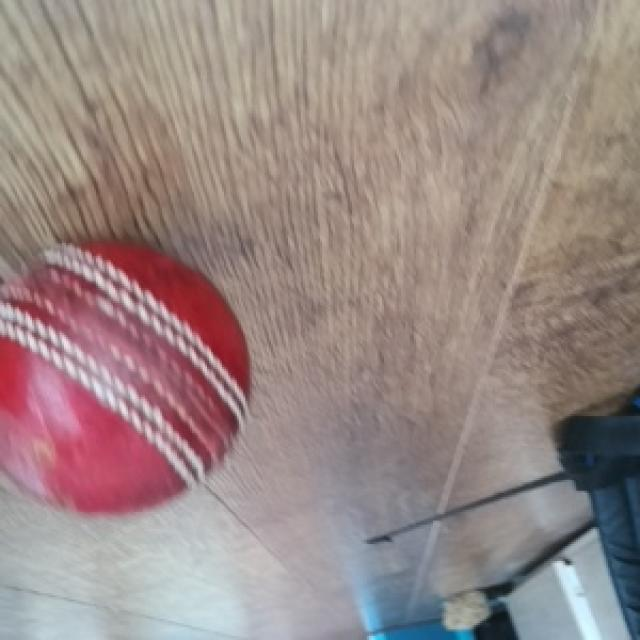ball: (0, 241, 254, 521)
